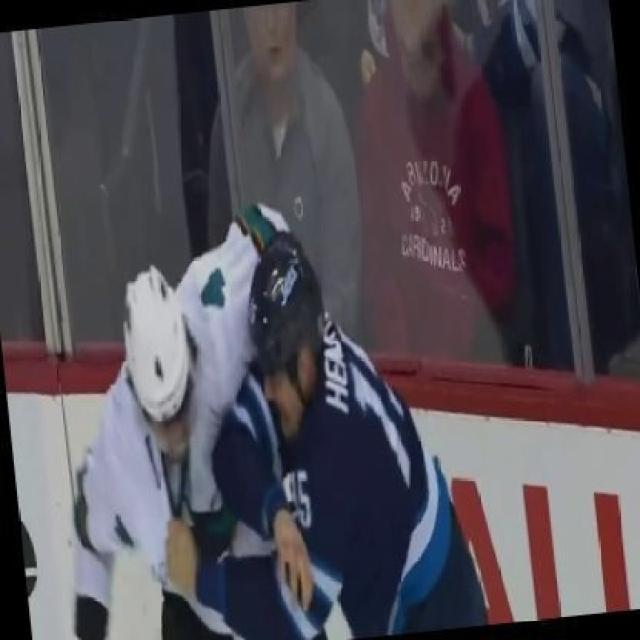fight: (72, 192, 488, 638)
